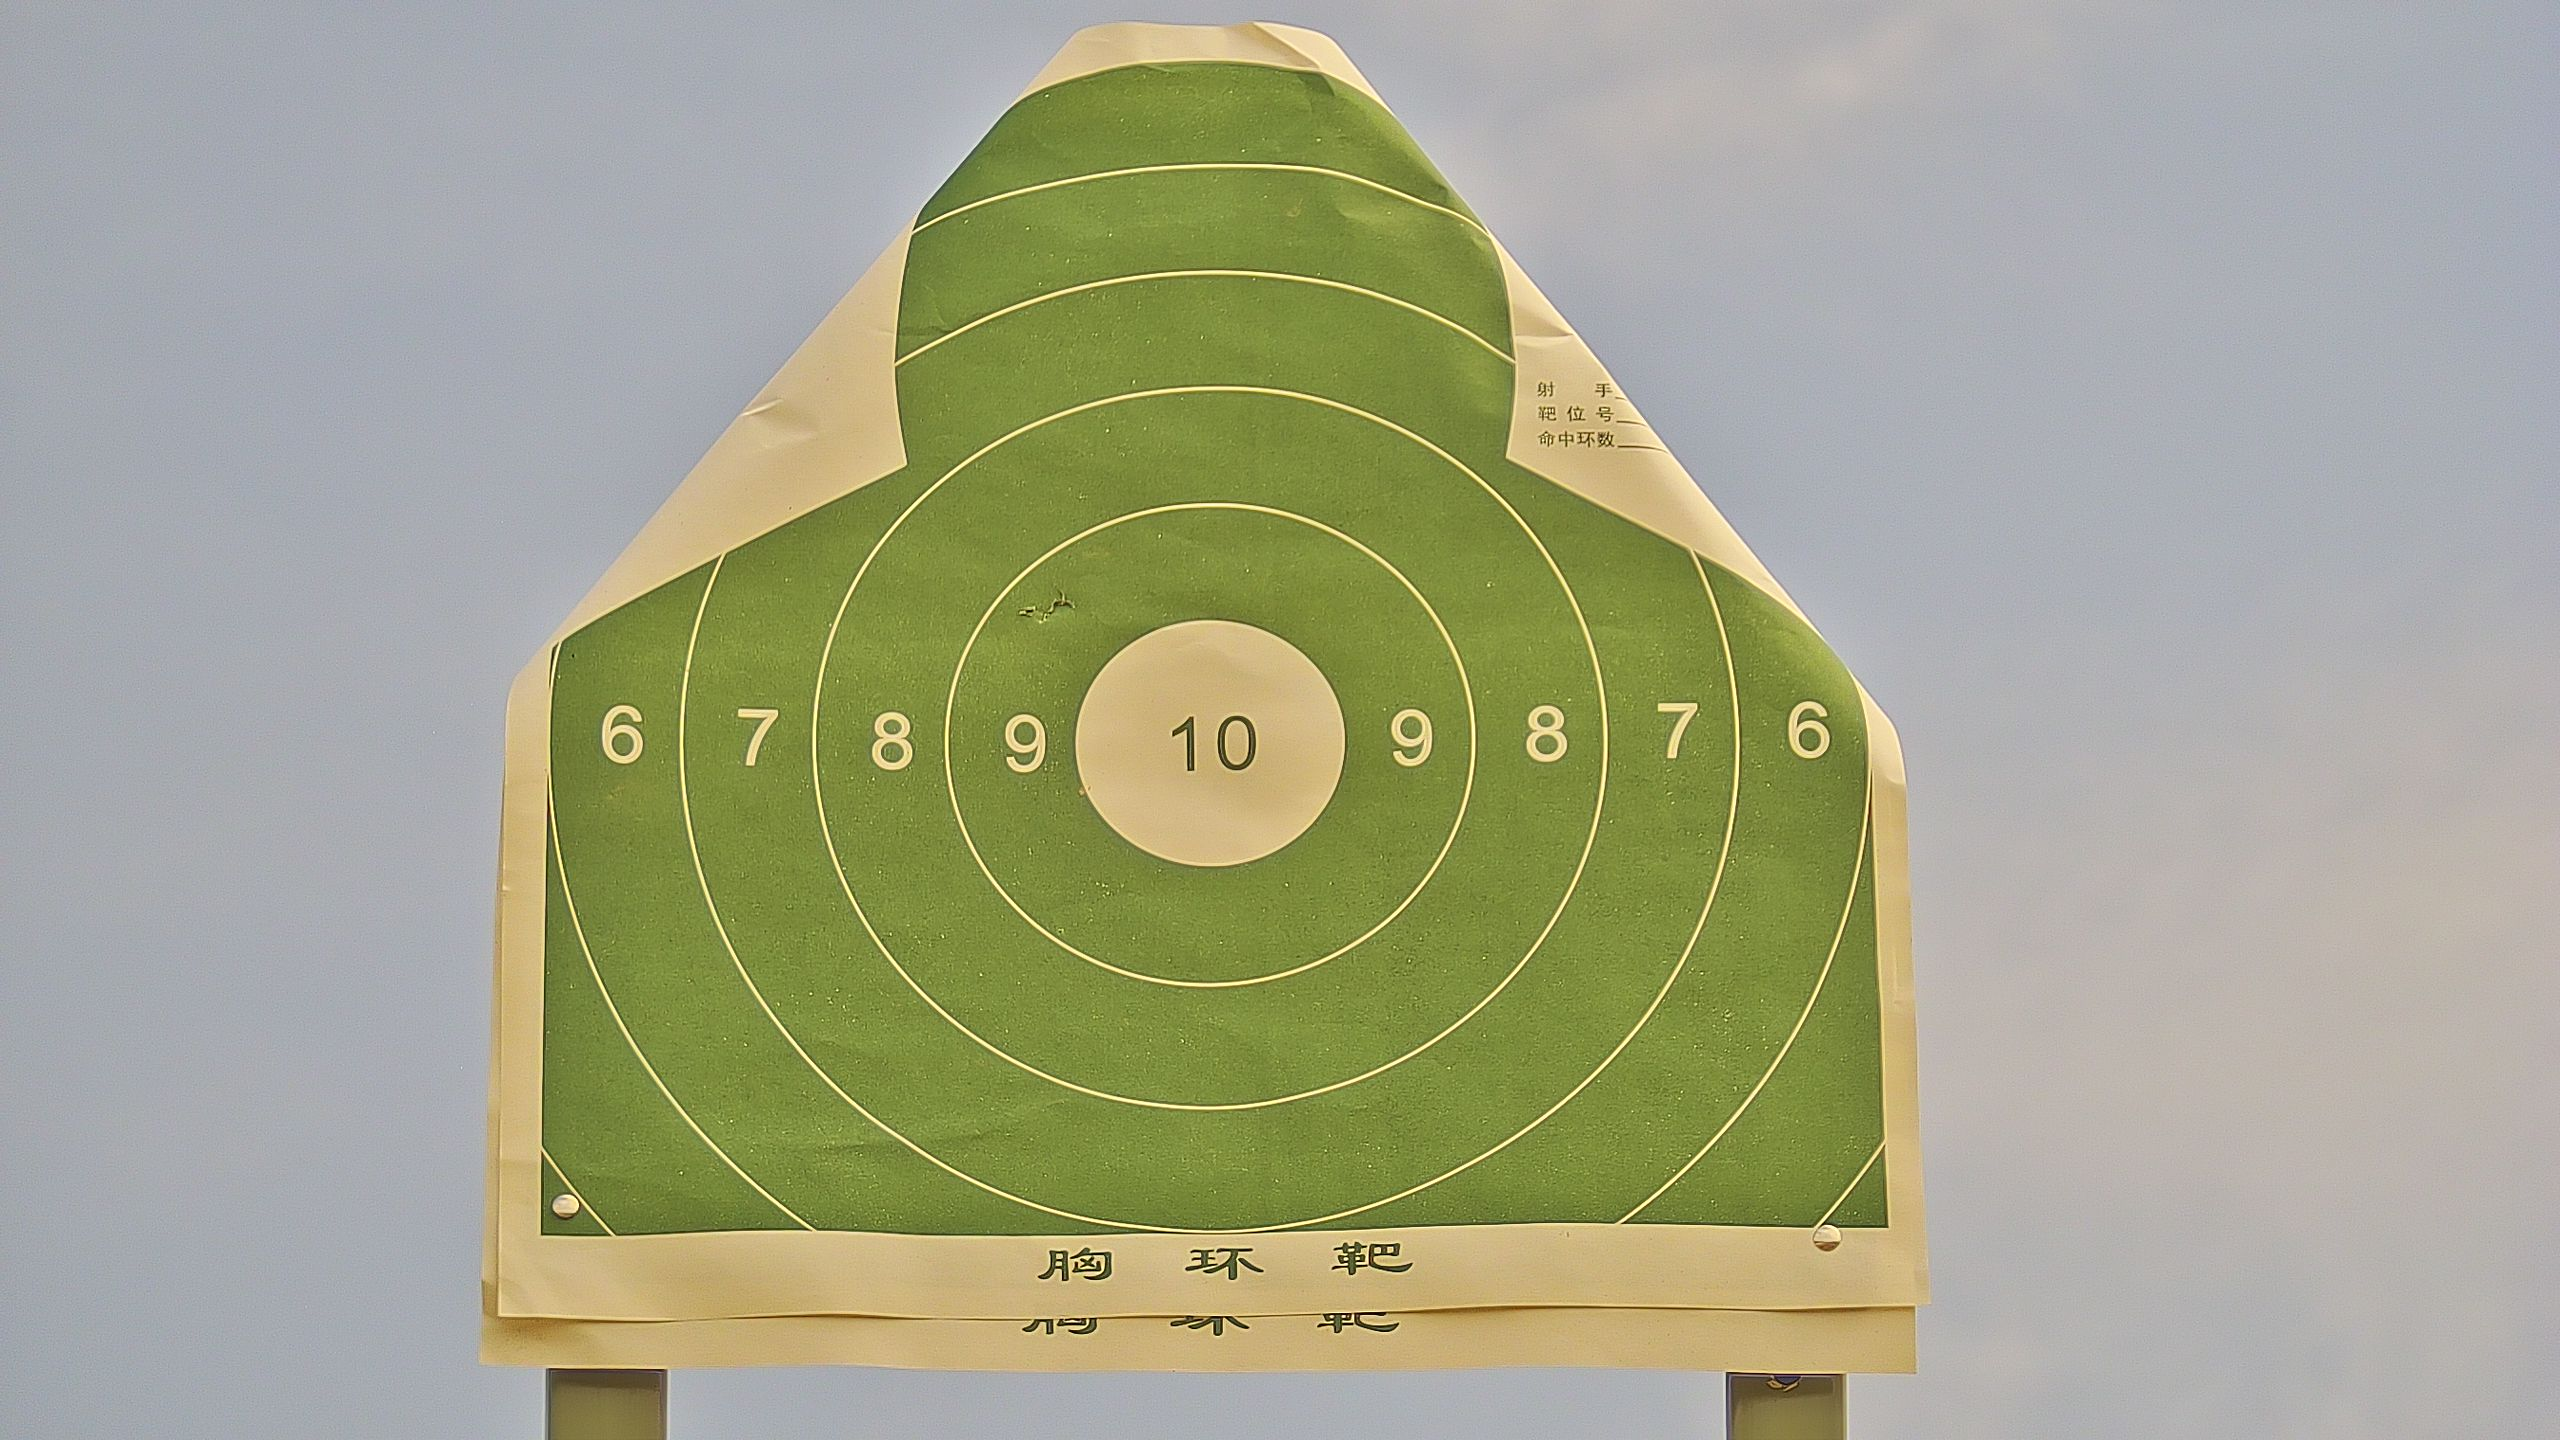kernel: (1204, 744, 1208, 745)
target: (536, 67, 1894, 1233)
ten: (1071, 612, 1349, 876)
